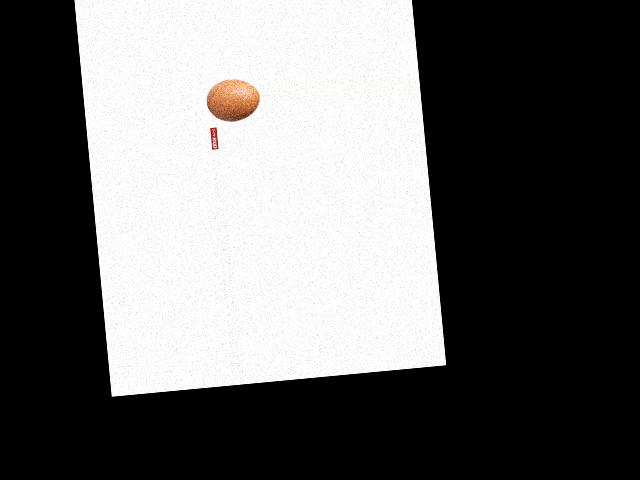egg: (204, 76, 260, 123)
